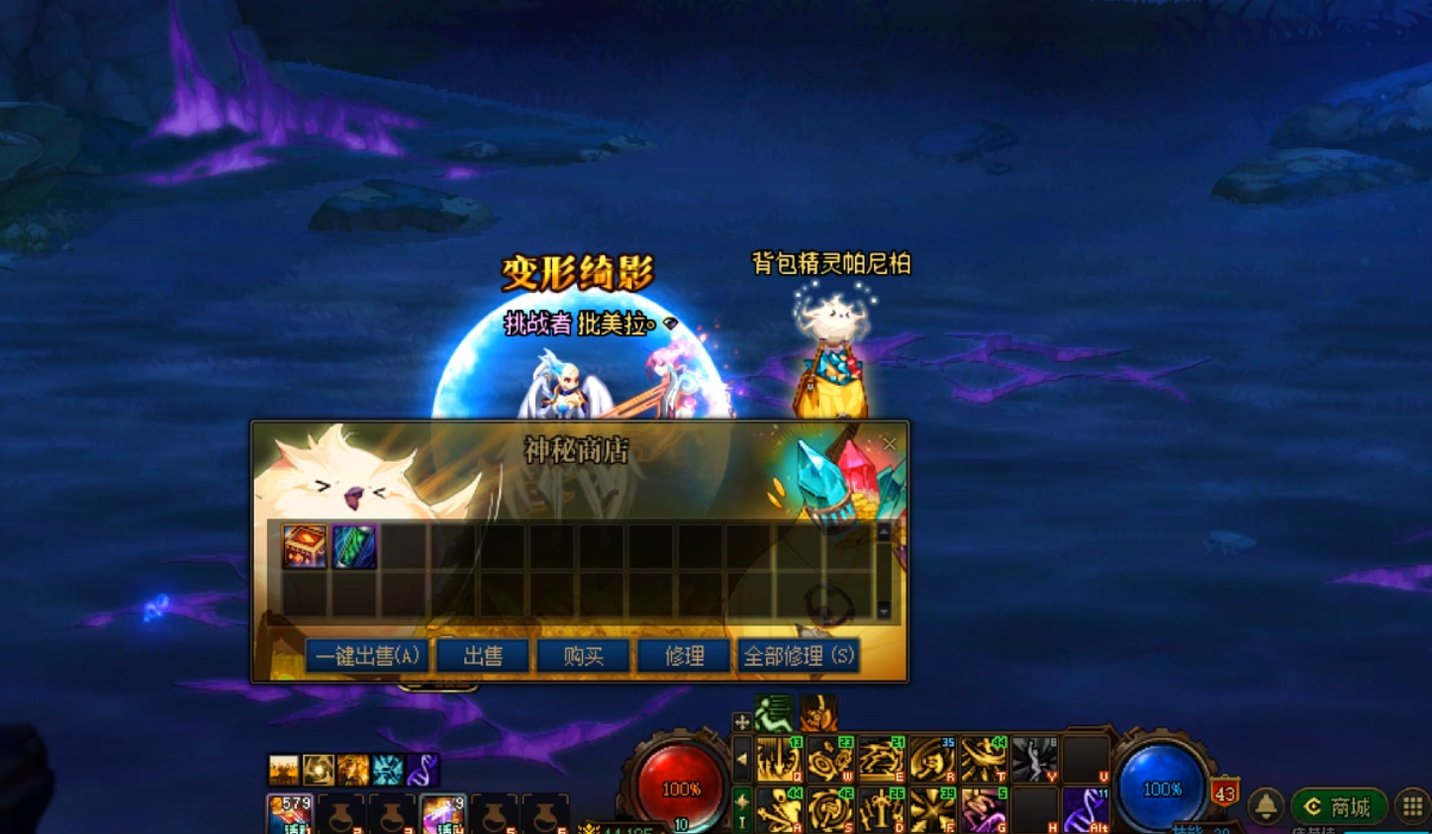can_hen: (329, 521, 376, 571)
smsd: (522, 430, 628, 467)
